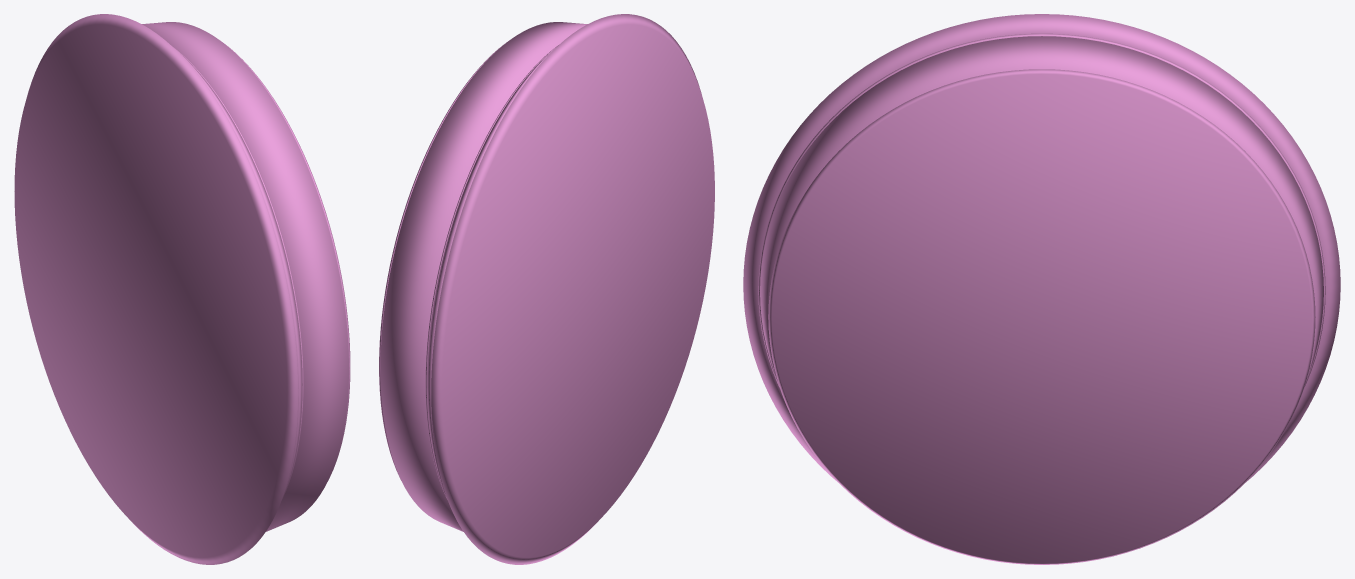
File: Wheel.obj
3 views of the same model, side by side, from view 1: azimuth 30°, elevation 25°; view 2: azimuth 150°, elevation 25°; view 3: azimuth 270°, elevation 25° (orthographic). The views are drawn at different scales.
Visible parts, largest first — view 1: F1, T2, F2, T3, T1; view 2: F1, T2, F2, T1, T3; view 3: T3, T2, F2, T1.
Boxes of the visible parts, <box> form: F1: <box>14,14,298,564</box>; T2: <box>142,22,348,531</box>; F2: <box>174,48,302,494</box>; T3: <box>222,42,350,480</box>; T1: <box>172,46,303,498</box>; F1: <box>431,14,714,564</box>; T2: <box>380,22,587,531</box>; F2: <box>427,49,553,493</box>; T1: <box>425,45,558,499</box>; T3: <box>379,42,506,479</box>; T3: <box>768,69,1315,564</box>; T2: <box>760,36,1323,478</box>; F2: <box>743,14,1340,481</box>; T1: <box>758,33,1325,387</box>.
Size of the model in its own units: 0.1354 by 0.9152 by 0.9152.
